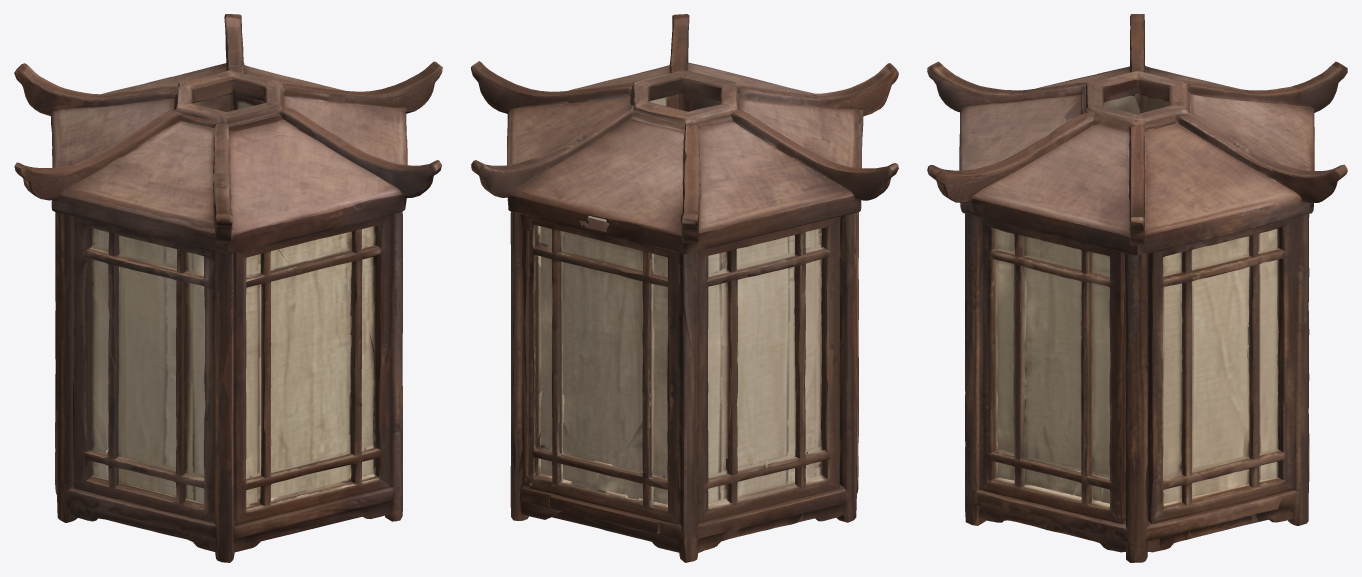
The model's file is lantern-hex.glb.
3 renders of one model, left to right at view 1: azimuth 30°, elevation 25°; view 2: azimuth 150°, elevation 25°; view 3: azimuth 270°, elevation 25°, orthographic.
Visible parts, largest first — view 1: geometry_0; view 2: geometry_0; view 3: geometry_0.
Boxes of the visible parts, x1=… form: geometry_0: x1=14, y1=14, x2=442, y2=562; geometry_0: x1=471, y1=14, x2=898, y2=562; geometry_0: x1=927, y1=14, x2=1347, y2=562.
Size of the model in its own units: 0.5151 by 0.45 by 0.4443.
Materials: 1 (1 with a texture image).
